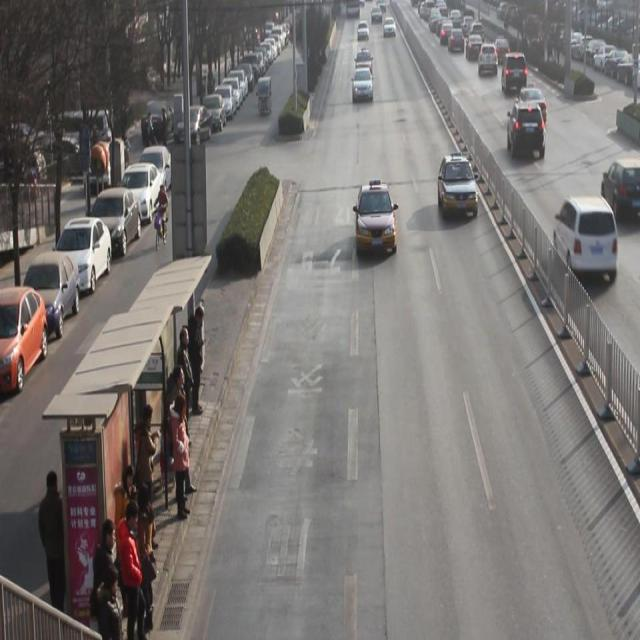car: (550, 207, 614, 293), (352, 191, 392, 268), (435, 165, 474, 230), (598, 172, 640, 230), (503, 112, 542, 170), (514, 91, 543, 133), (498, 62, 524, 102), (349, 78, 370, 113), (474, 52, 494, 88), (461, 45, 479, 71), (491, 46, 506, 72), (445, 38, 460, 63), (545, 35, 558, 60), (353, 59, 368, 80), (437, 31, 449, 54), (354, 31, 366, 52), (380, 27, 392, 48)
